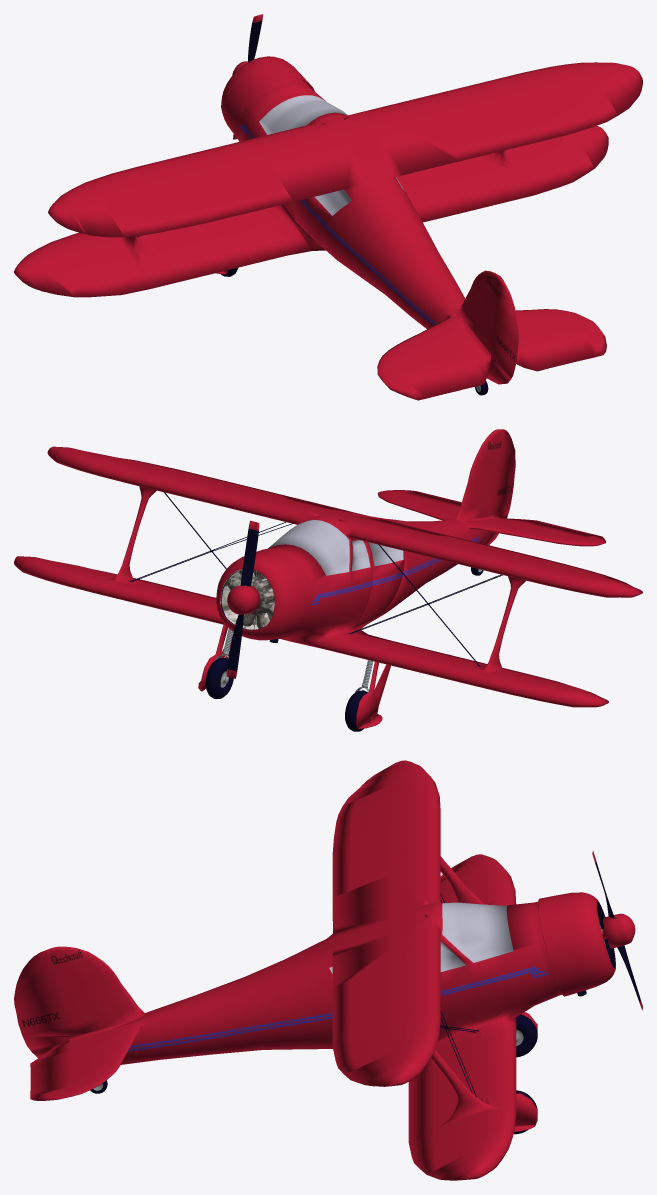
The model's file is Beech_Model-17_aircraft_unrigged_3.2.glb.
3 renders of one model, top to bottom at view 1: azimuth 30°, elevation 25°; view 2: azimuth 150°, elevation 25°; view 3: azimuth 270°, elevation 25°, orthographic. The views are drawn at different scales.
Visible parts, largest first — view 1: Beech17aircraft; view 2: Beech17aircraft; view 3: Beech17aircraft.
Part boxes in pixels (x1,y1,x2,y2): Beech17aircraft: [14, 14, 642, 400]; Beech17aircraft: [14, 429, 642, 731]; Beech17aircraft: [14, 760, 642, 1180].
Size of the model in its own units: 9.8 by 3.49 by 8.18.
Materials: 2 (2 with a texture image).
